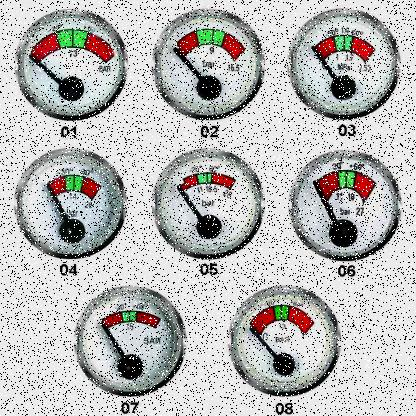needle: (27, 54, 63, 86)
